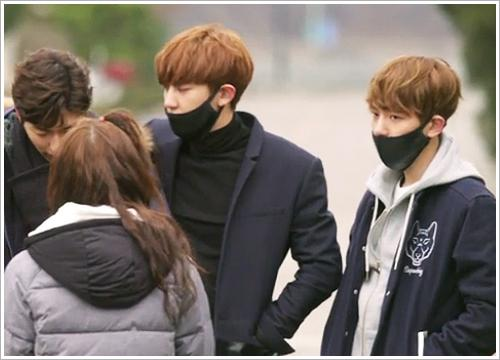NONE: (30, 118, 82, 168)
WRONG: (368, 101, 435, 168), (163, 78, 225, 136)
